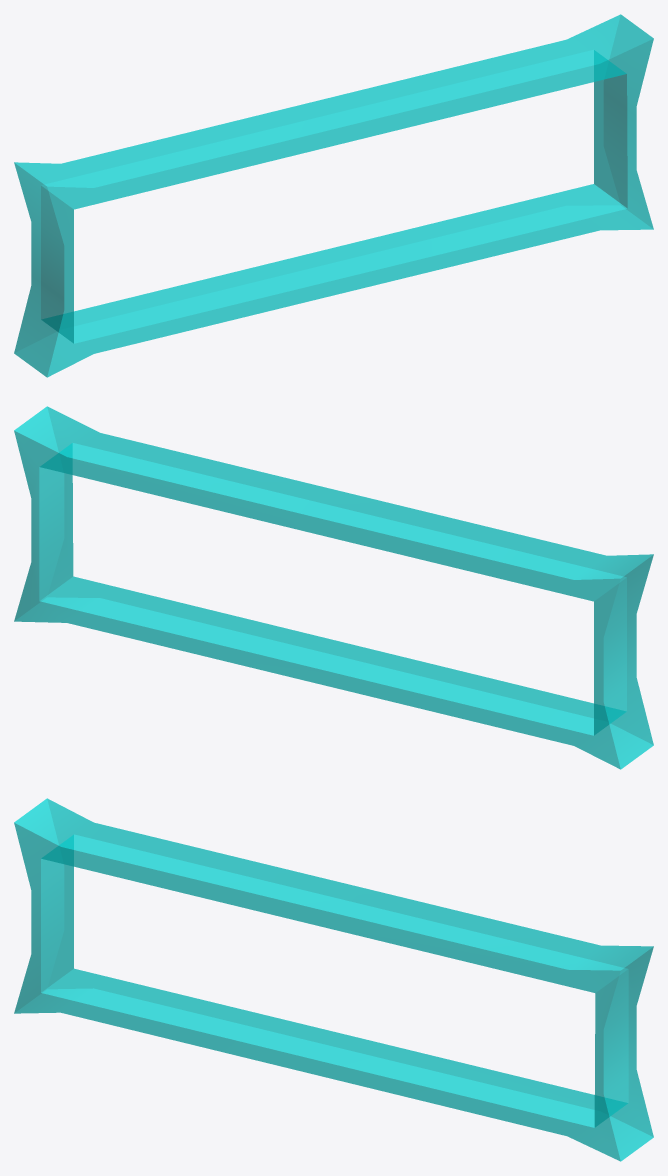
File: Boarder_PointyBlue.fbx
3 renders of one model, top to bottom at view 1: azimuth 30°, elevation 25°; view 2: azimuth 150°, elevation 25°; view 3: azimuth 330°, elevation 25°, orthographic.
Parts seen in each view (by area): view 1: Boarder_Pointy; view 2: Boarder_Pointy; view 3: Boarder_Pointy.
Part boxes in pixels (left/top/right/bottom): Boarder_Pointy: left=14, top=14, right=653, bottom=377; Boarder_Pointy: left=14, top=406, right=653, bottom=769; Boarder_Pointy: left=14, top=798, right=653, bottom=1161.
Size of the model in its own units: 25.18 by 2.44 by 7.58.
